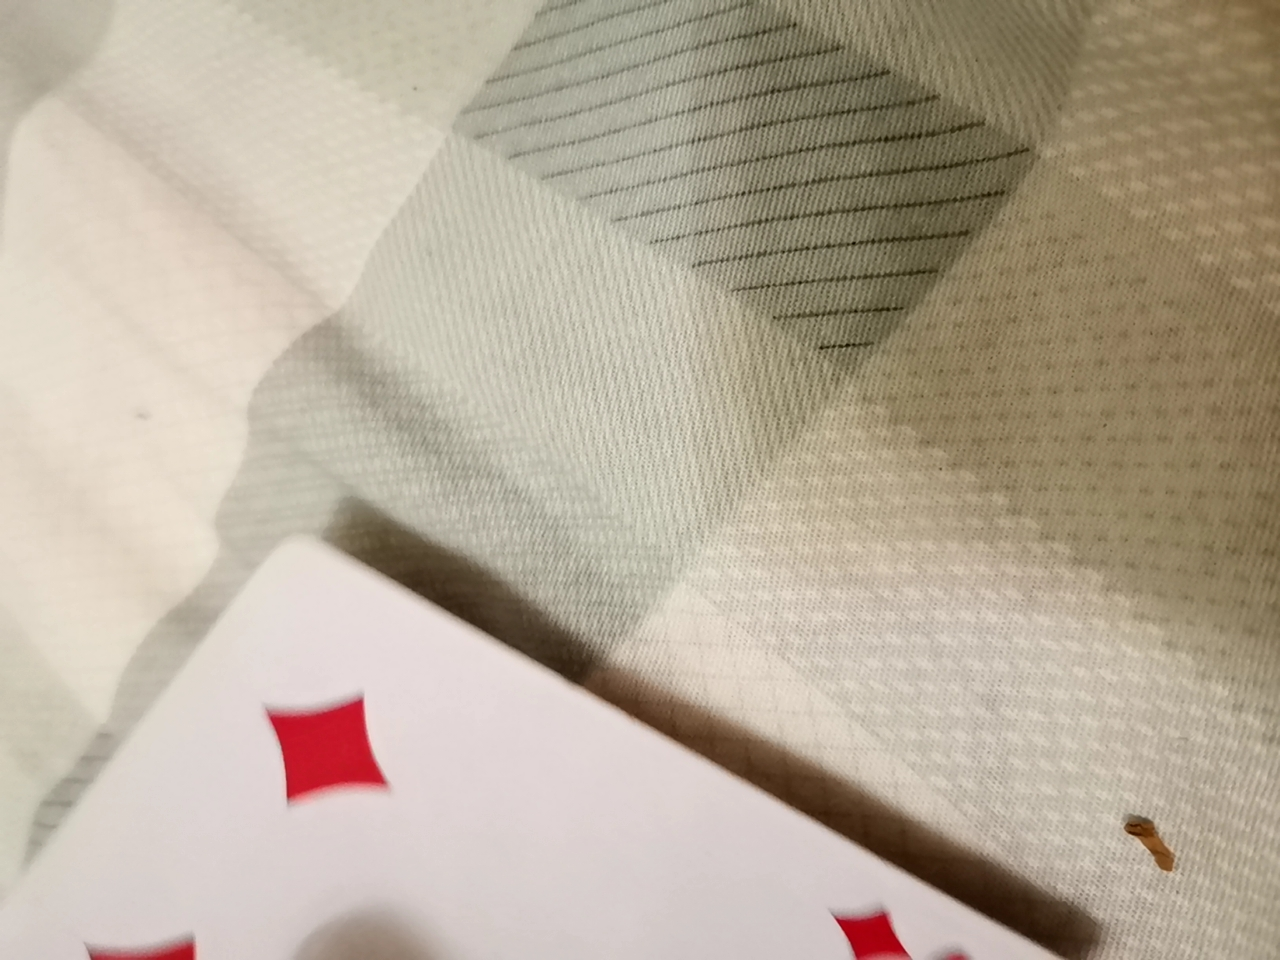fk 5: (0, 523, 1118, 955)
